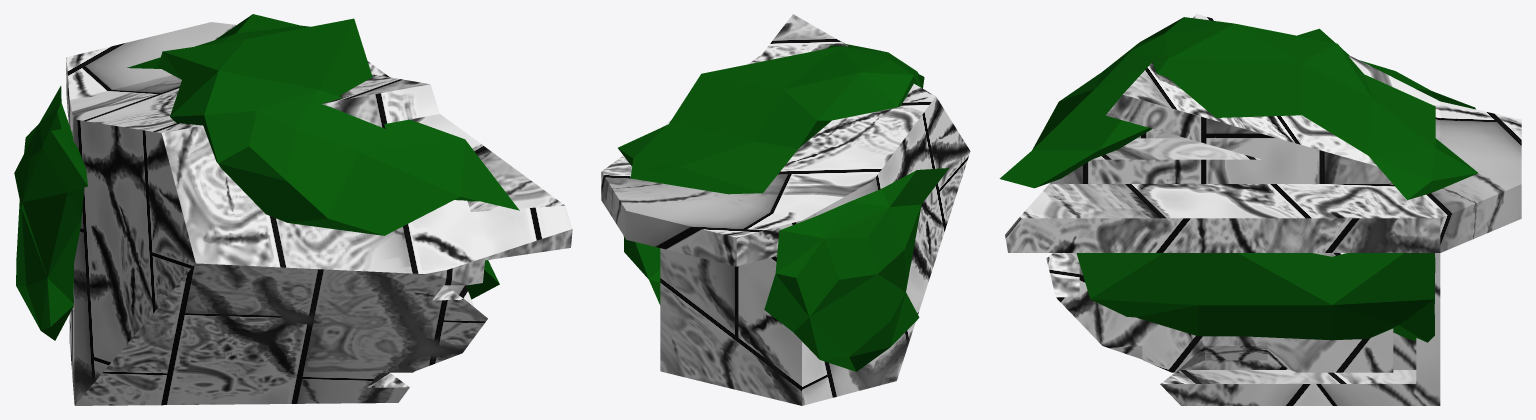
Rendered from building_frag08.fbx.
3 renders of one model, left to right at view 1: azimuth 30°, elevation 25°; view 2: azimuth 150°, elevation 25°; view 3: azimuth 270°, elevation 25°, orthographic. The views are drawn at different scales.
Parts seen in each view (by area): view 1: building_frag08; view 2: building_frag08; view 3: building_frag08.
Part boxes in pixels (x1,y1,x2,y2): building_frag08: (14,14,572,405); building_frag08: (601,14,970,405); building_frag08: (999,14,1521,405).
Bounding box in the file's own units: 305 × 285 × 427.
